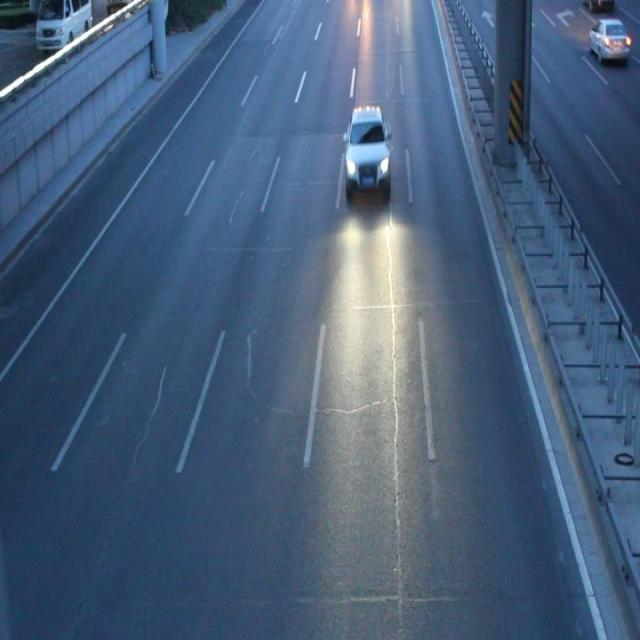car: (343, 107, 390, 198)
